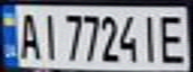2: (100, 11, 121, 63)
4: (118, 11, 142, 64)
7: (60, 9, 84, 62), (78, 10, 100, 63)
A: (15, 8, 42, 61)
E: (157, 10, 190, 64)
I: (139, 11, 163, 64), (36, 9, 60, 61)
